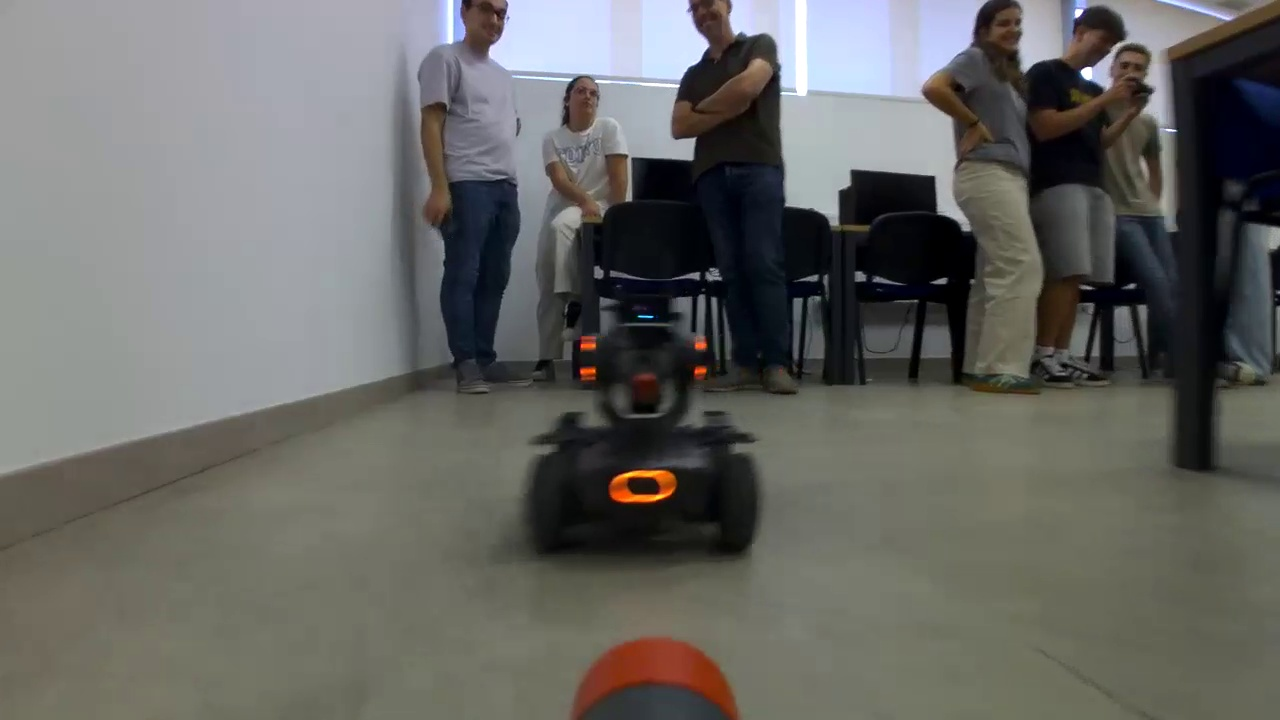robot: (520, 331, 776, 573)
